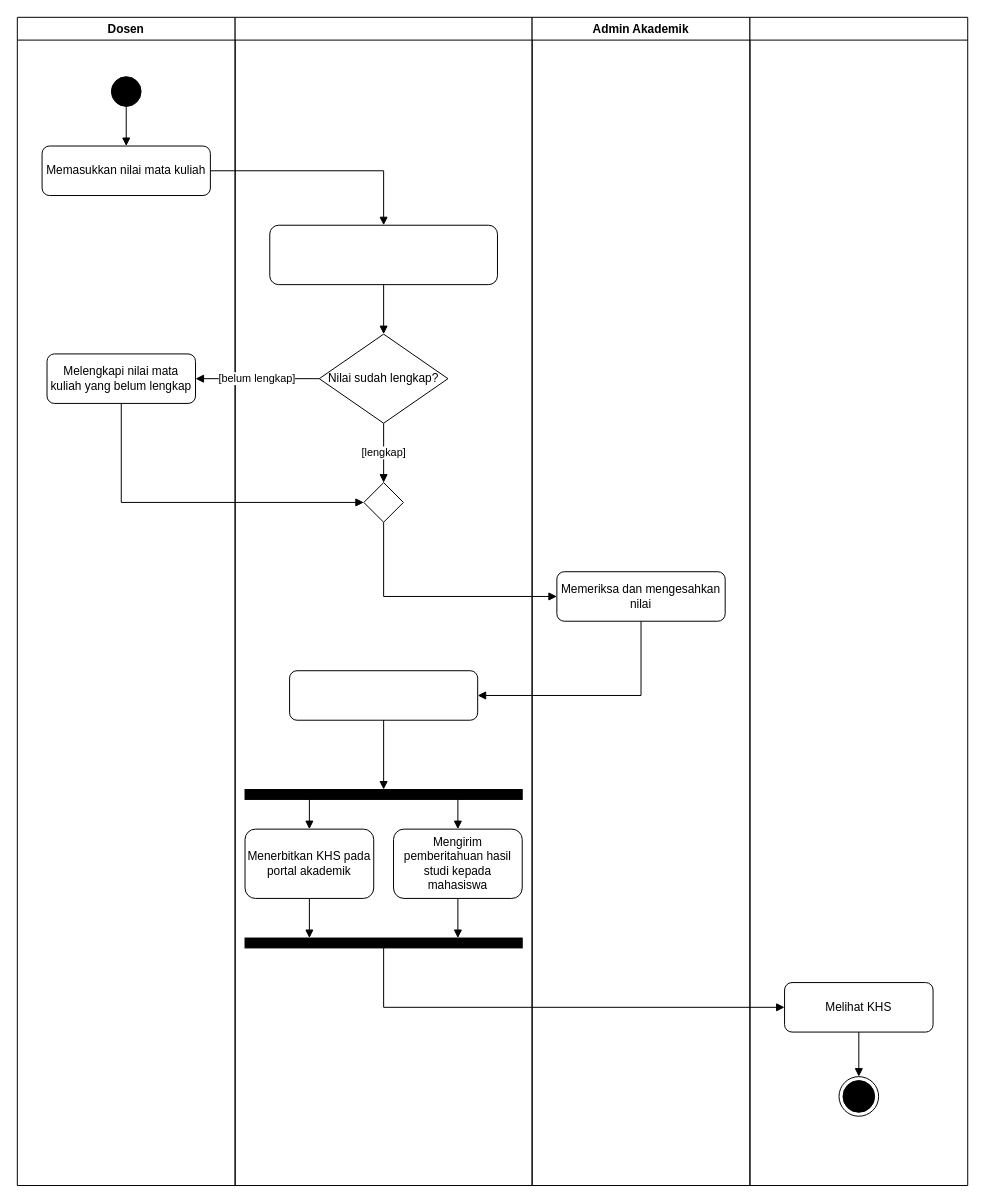
Some shapes in this 985 by 1203 pixel diagram are drawn without their labels. Each missing label, with the box of its shape:
Mahasiswa: (749, 16, 968, 1186)
Menyiapkan publikasi hasil studi: (289, 670, 478, 720)
Menyimpan nilai dan menampilkan konfirmasi penyimpanan nilai: (269, 224, 497, 285)
Sistem: (234, 16, 532, 1186)
